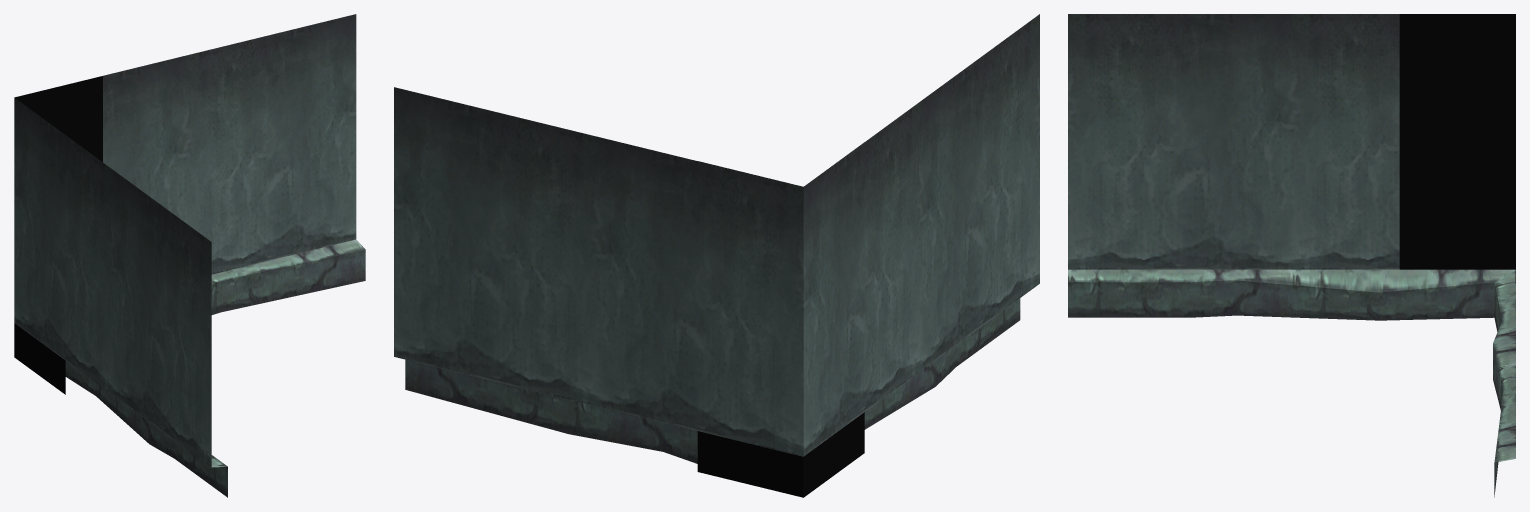
File: crypt_half_concave_01.fbx
The picture shows the model from 3 angles, left to right: view 1: azimuth 30°, elevation 25°; view 2: azimuth 150°, elevation 25°; view 3: azimuth 270°, elevation 25°; orthographic projection. The views are drawn at different scales.
Parts seen in each view (by area): view 1: crypt_half_concave_01-0; view 2: crypt_half_concave_01-0; view 3: crypt_half_concave_01-0.
Part boxes in pixels (box(x1,y1,x2,y2)): crypt_half_concave_01-0: box(14, 14, 365, 497); crypt_half_concave_01-0: box(394, 14, 1039, 497); crypt_half_concave_01-0: box(1068, 14, 1515, 497).
Size of the model in its own units: 3.79 by 2.75 by 3.79.
